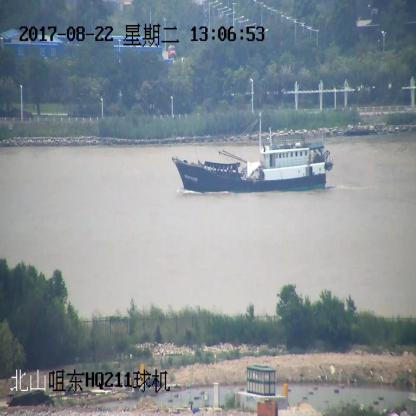Fishing Boat: (173, 112, 333, 190)
